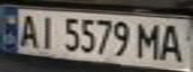5: (60, 15, 81, 53), (78, 16, 96, 54)
7: (93, 16, 115, 55)
9: (109, 18, 136, 57)
A: (157, 20, 187, 63), (15, 11, 42, 48)
I: (33, 12, 60, 50)
M: (136, 19, 163, 61)
